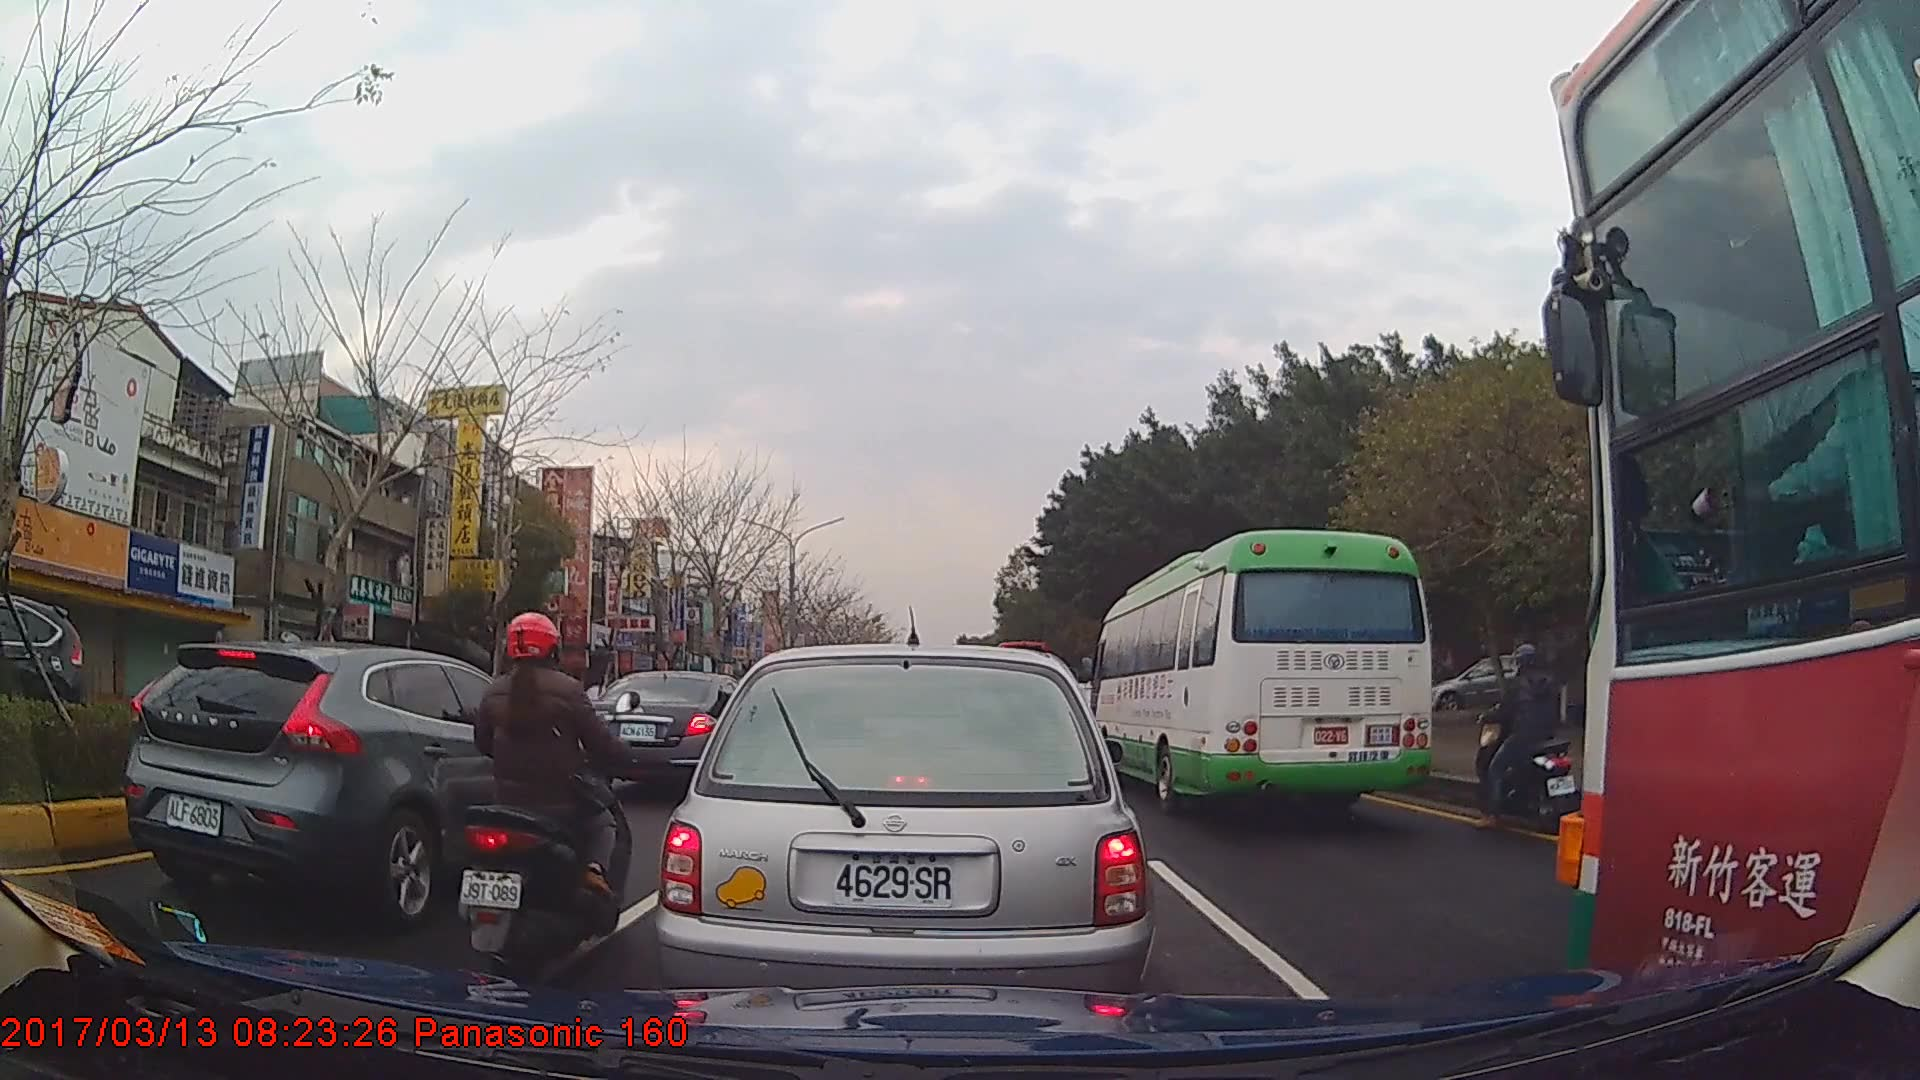rider: (456, 611, 642, 970), (1473, 643, 1578, 832)
vehicle: (1533, 0, 1920, 1051), (654, 640, 1157, 1038), (122, 644, 598, 919), (1089, 527, 1430, 815), (582, 668, 757, 795), (0, 592, 84, 763)
